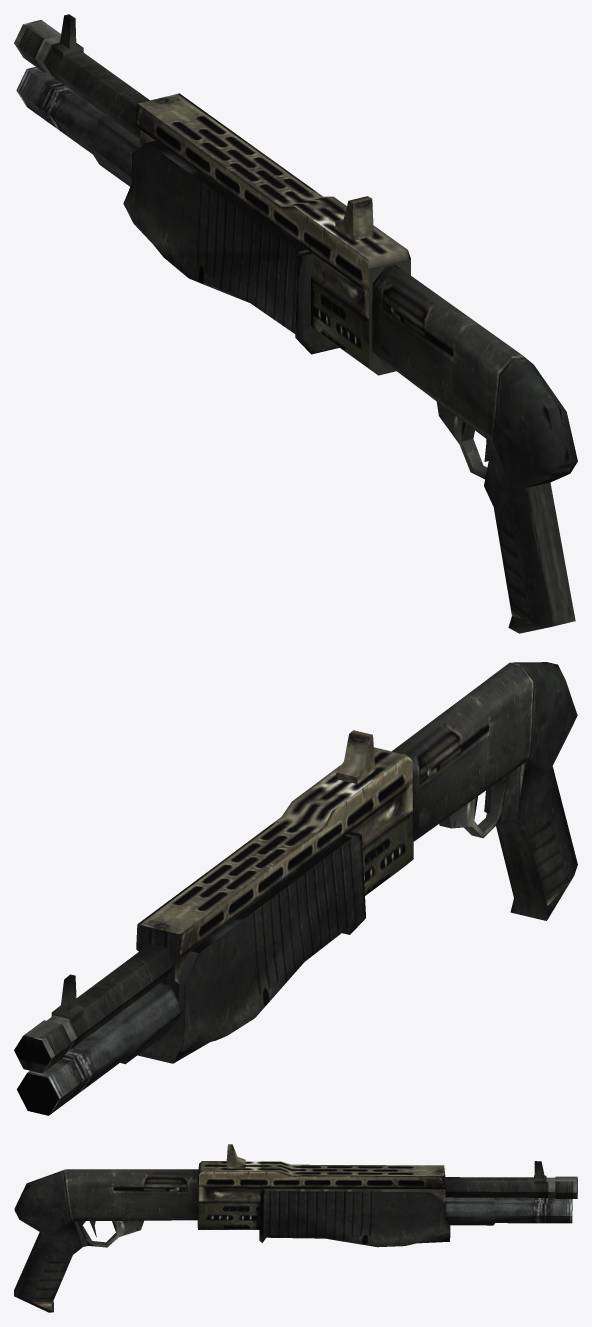
The picture shows the model from 3 angles, top to bottom: view 1: azimuth 30°, elevation 25°; view 2: azimuth 150°, elevation 25°; view 3: azimuth 270°, elevation 25°; orthographic projection. The views are drawn at different scales.
Visible parts, largest first — view 1: studio_shotgun_reference.smd; view 2: studio_shotgun_reference.smd; view 3: studio_shotgun_reference.smd.
Part boxes in pixels (bbox=[...]): studio_shotgun_reference.smd: bbox=[14, 14, 577, 633]; studio_shotgun_reference.smd: bbox=[14, 662, 577, 1115]; studio_shotgun_reference.smd: bbox=[14, 1144, 577, 1312].
Size of the model in its own units: 4.26 by 18.43 by 57.79.
